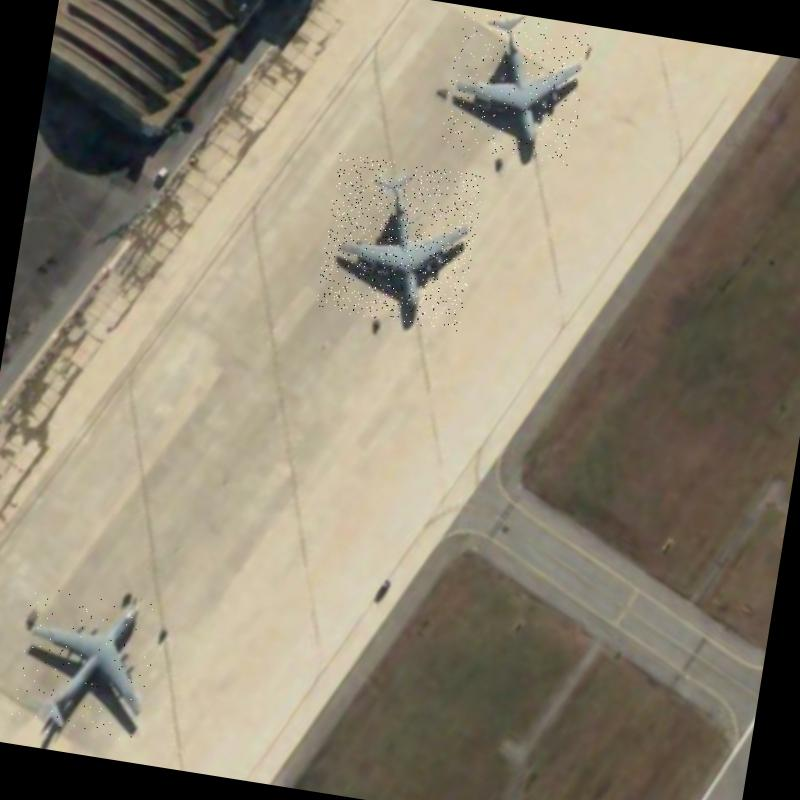A4: (314, 152, 484, 332), (9, 580, 162, 748), (440, 8, 592, 166)
